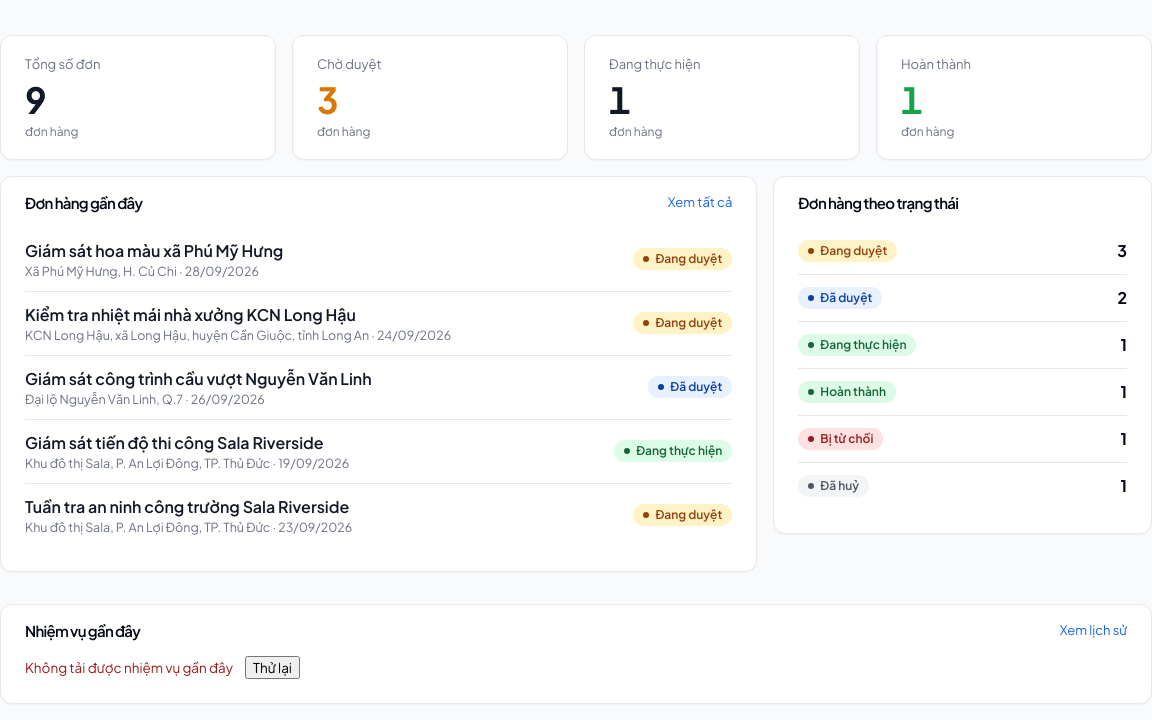
Test: DashboardPage › keeps the orders visible when only the missions fail, with its own retry
(page scrolled)
Expected: the text "Không tải được nhiệm vụ gần đây" is shown, [25,659,233,676]
Expected: the text "Tổng số đơn" is shown, [25,56,100,72]
Click the button "Thử lại".
click(273, 667)  # box [245,656,300,679]
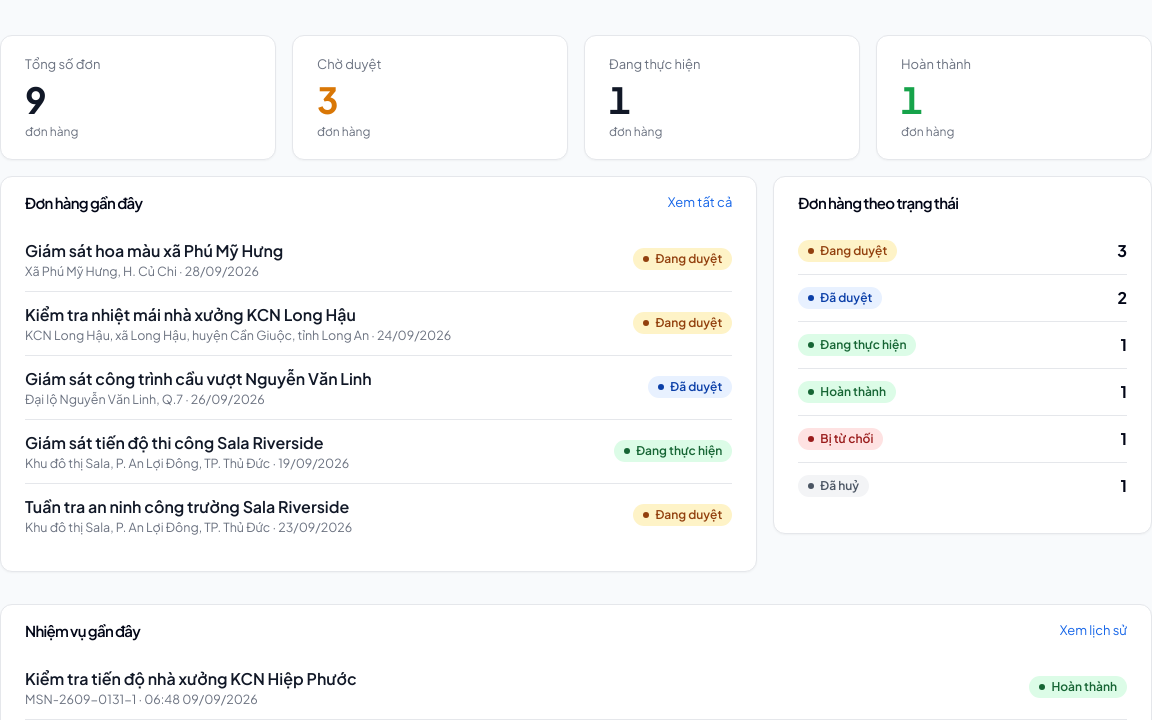
Expected: the text "MSN-2609-0131-1" is shown, [25,691,258,707]
